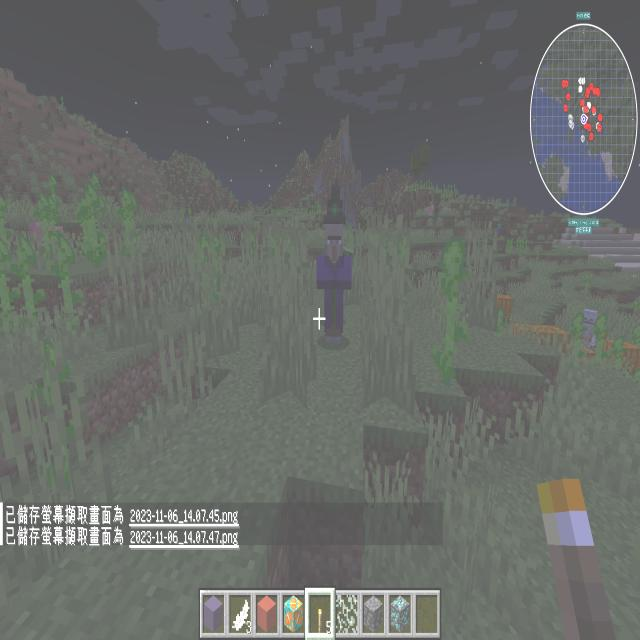Witch: (306, 168, 356, 362)
